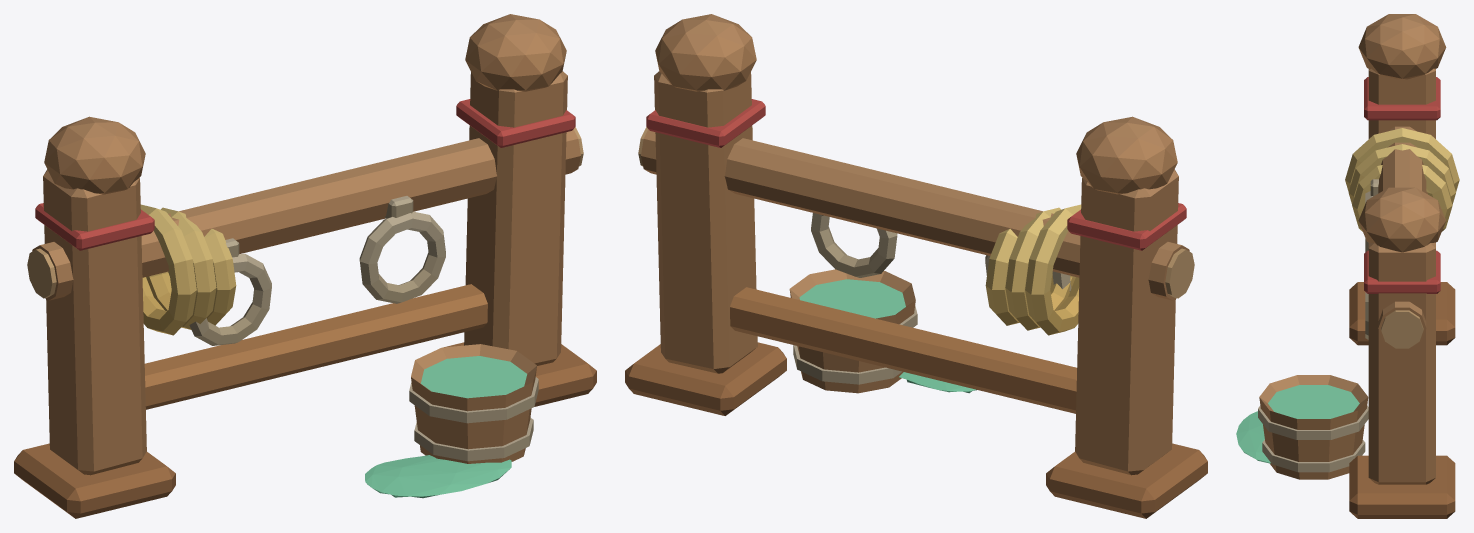
Rendered from ranch_hitching_post.fbx.
The picture shows the model from 3 angles, left to right: view 1: azimuth 30°, elevation 25°; view 2: azimuth 150°, elevation 25°; view 3: azimuth 270°, elevation 25°; orthographic projection. The views are drawn at different scales.
Parts seen in each view (by area): view 1: ranch_hitching_post; view 2: ranch_hitching_post; view 3: ranch_hitching_post.
Part boxes in pixels (box(x1,y1,x2,y2)): ranch_hitching_post: box(14, 14, 596, 518); ranch_hitching_post: box(625, 14, 1207, 518); ranch_hitching_post: box(1236, 14, 1459, 518).
Size of the model in its own units: 7.32 by 4.82 by 3.16.
